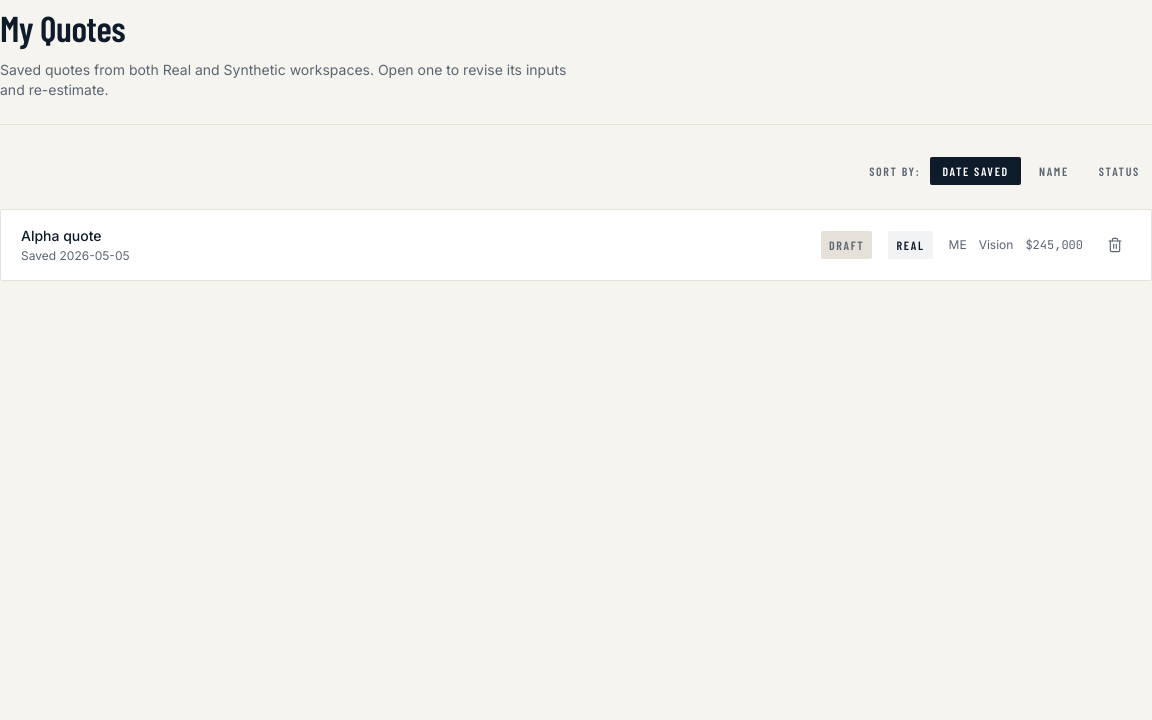
Test: MyQuotesPage - delete flow › clicking 'Keep it' closes the DeleteQuoteModal
What coordinates should you click on to do the following:
click the button named "delete quote alpha quote"
I would click on:
 (1115, 245)
Its box is [1099,229,1131,261].
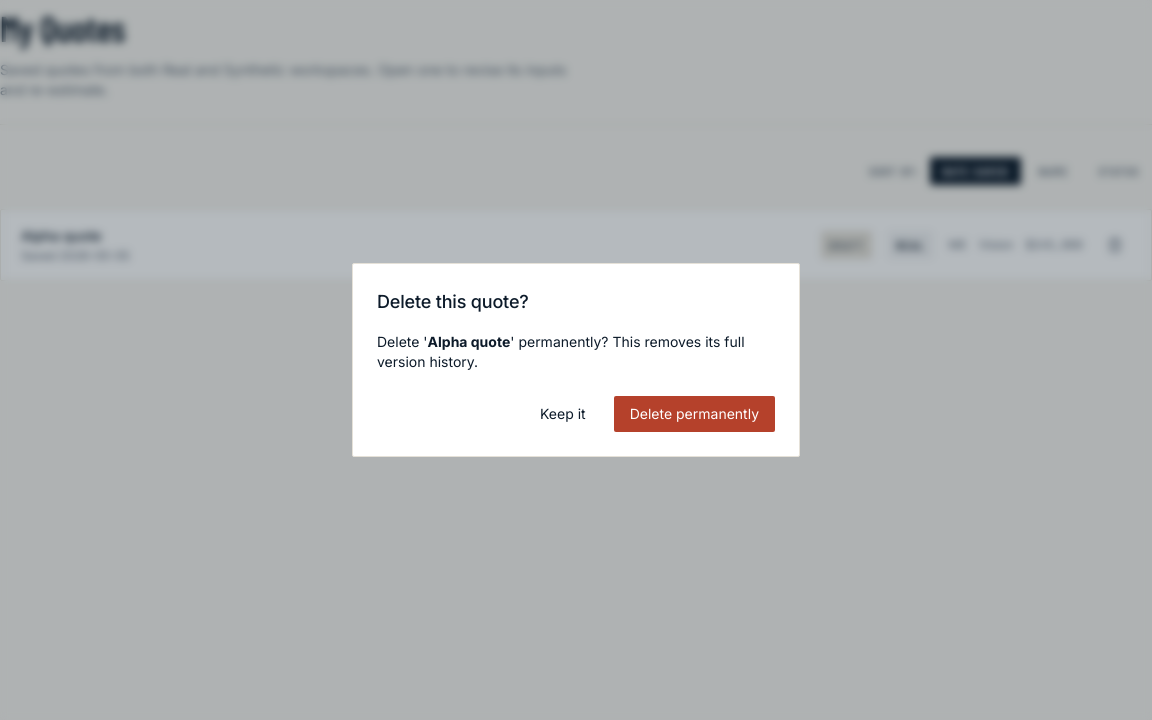
Result: the dialog is shown at [352,263,800,457]
What coordinates should you click on to do the following:
click the button "Keep it"
I would click on:
 (563, 414)
Its box is [524,396,602,432].
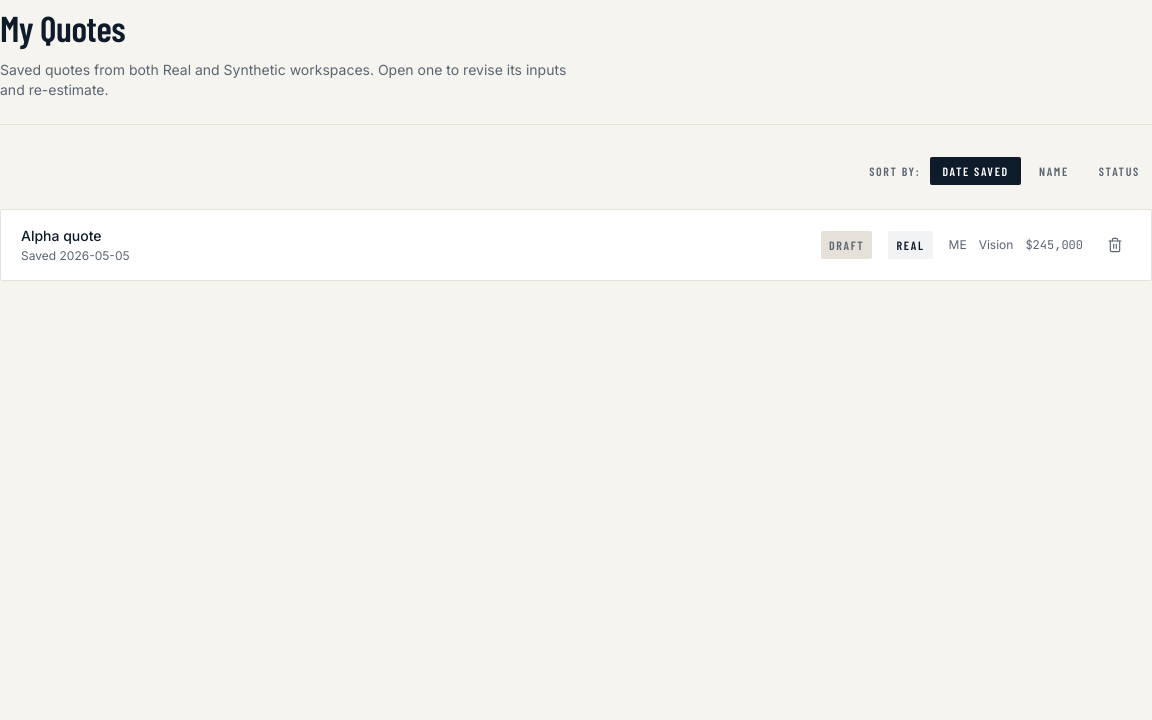
Result: the dialog is gone
